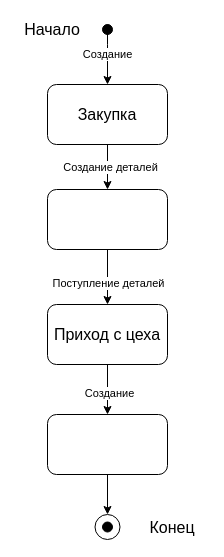
The diagram is 224 pixels wide and 557 high, and some of its shapes have lost their labels. Each missing label, with the centre of its shape:
Отправка на цех: the point at 107,219
Продажа: the point at 107,444
